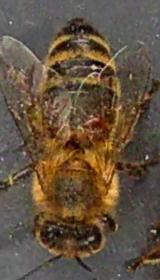varroa_mite: (78, 112, 112, 136)
